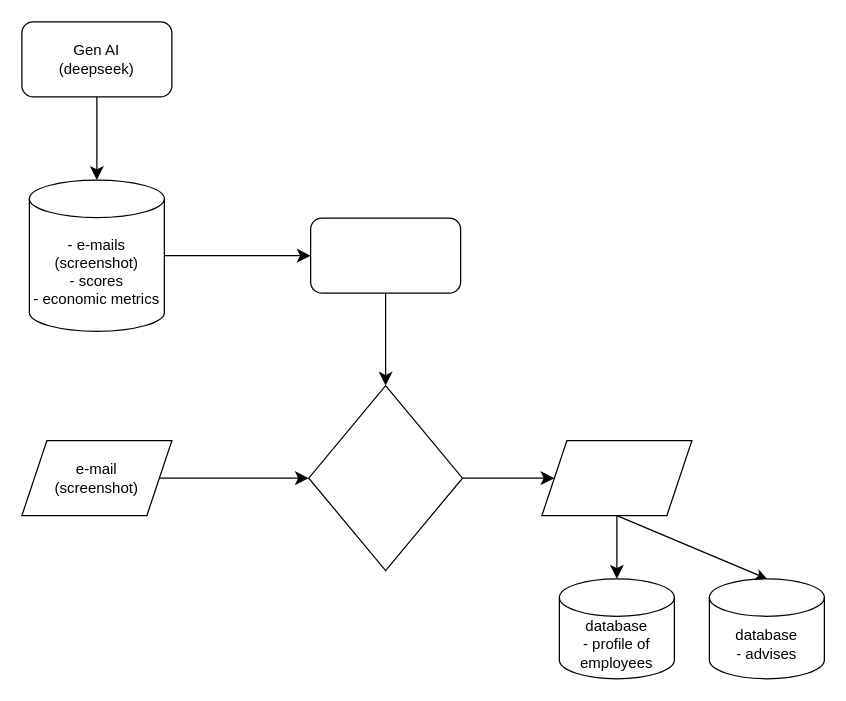
Some shapes in this 846 by 701 pixel diagram are drawn without their labels. Each missing label, with the box of its shape:
- determine scores - rewritten e-mail: (541, 439, 692, 516)
Fine tuning of llama3.2-vision (unsloth): (309, 217, 461, 293)
fine-tuned Gen AI (llama3.2-vision-tuned): (308, 384, 462, 571)
